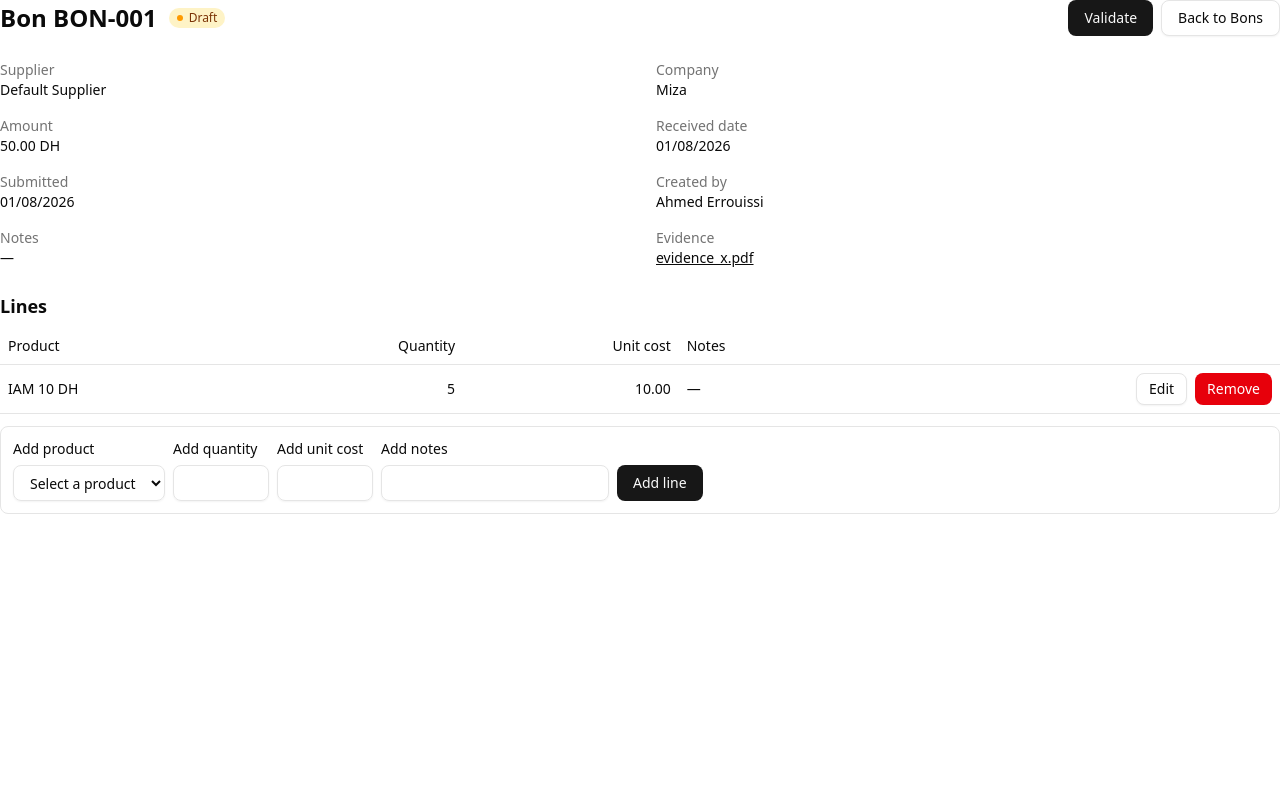
Validate — freshness rule (M4 · G4 closure) and error codes › blocks confirm when the fresh read shows the bon already processed
Step 1. Click the button "Validate" → [1111, 18], box left=1068, top=0, right=1153, bottom=36
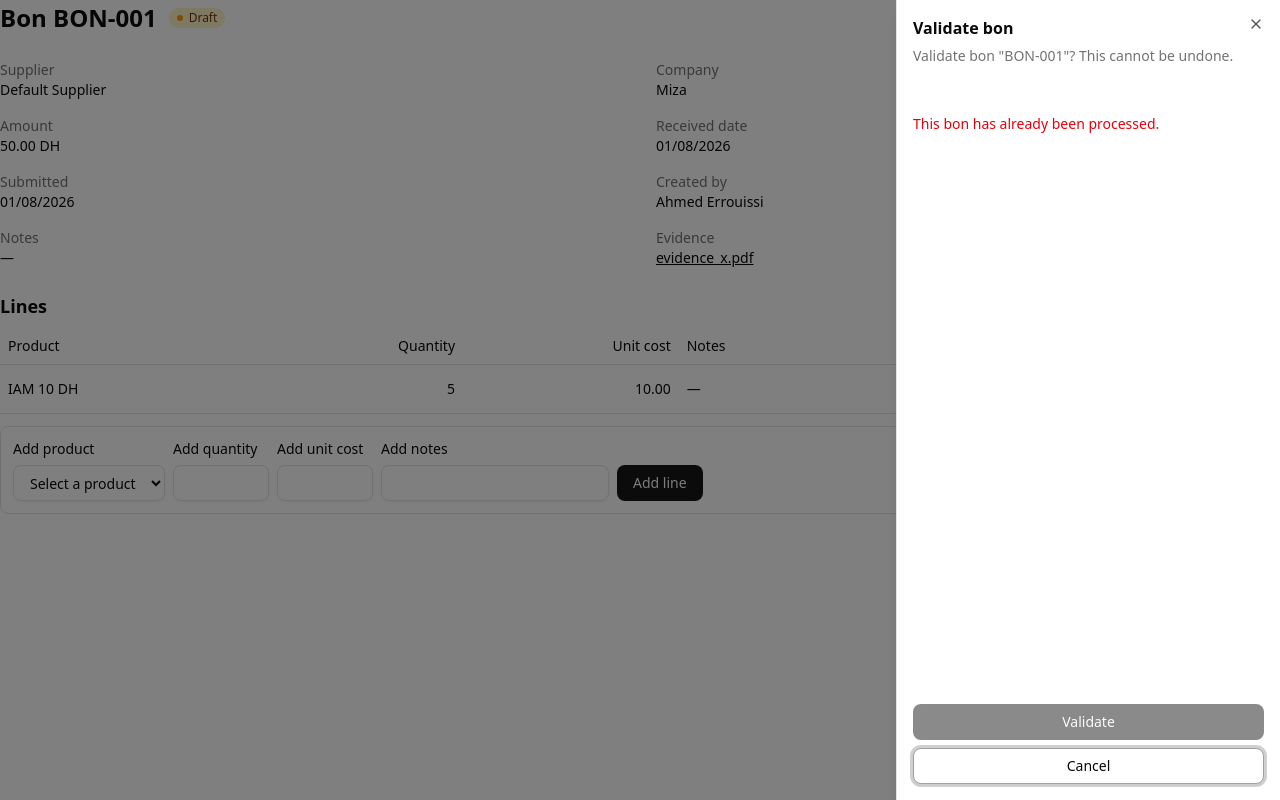
Expected: the text "This bon has already been processed." is shown, left=913, top=114, right=1159, bottom=133
Expected: the button "Validate" is disabled, left=913, top=704, right=1264, bottom=740
